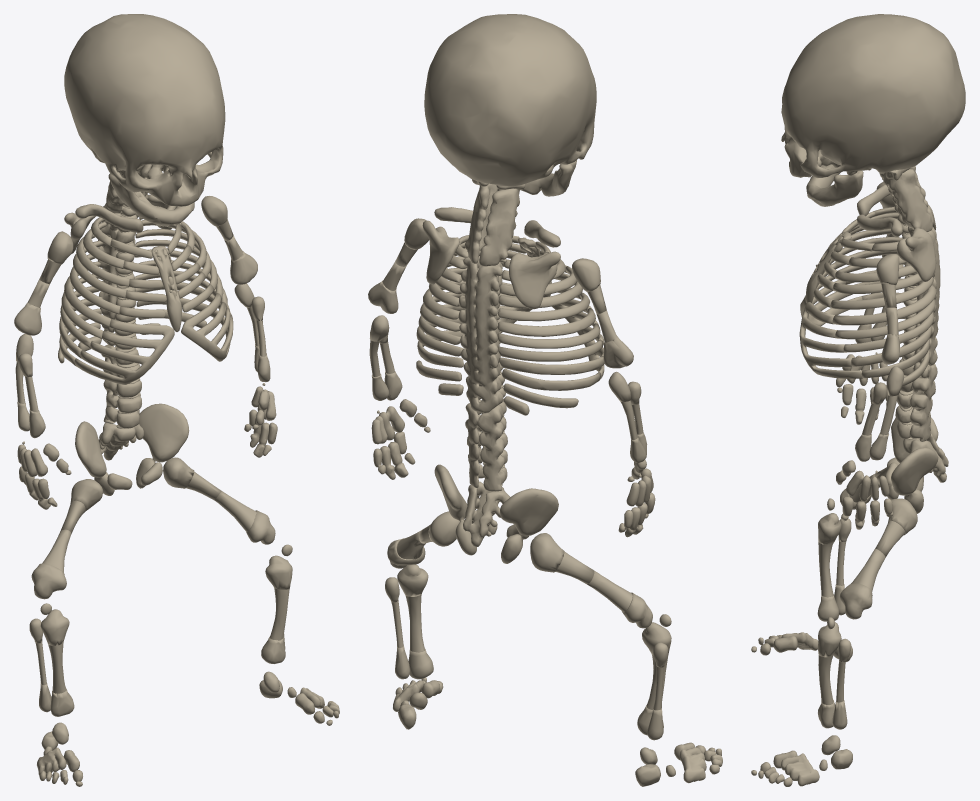
Rendered from pediatric_neonate_female.skeletal.LOD1.glb.
3 renders of one model, left to right at view 1: azimuth 30°, elevation 25°; view 2: azimuth 150°, elevation 25°; view 3: azimuth 270°, elevation 25°, orthographic. The views are drawn at different scales.
Parts seen in each view (by area): view 1: PEDIATRIC.NEONATE.FEMALE.SKELETAL.CARTILAGE_TRUNK, PEDIATRIC.NEONATE.FEMALE.SKELETAL.CARTILAGE_HEAD, PEDIATRIC.NEONATE.FEMALE.SKELETAL.CARTILAGE_LEGS, PEDIATRIC.NEONATE.FEMALE.SKELETAL.CARTILAGE_ARMS, PEDIATRIC.NEONATE.FEMALE.SKELETAL.FEMORA_LOWER_CORTICAL, PEDIATRIC.NEONATE.FEMALE.SKELETAL.TIBIAE_CORTICAL, PEDIATRIC.NEONATE.FEMALE.SKELETAL.FEMORA_UPPER_CORTICAL, PEDIATRIC.NEONATE.FEMALE.SKELETAL.HUMERI_LOWER_CORTICAL; view 2: PEDIATRIC.NEONATE.FEMALE.SKELETAL.CARTILAGE_TRUNK, PEDIATRIC.NEONATE.FEMALE.SKELETAL.CARTILAGE_HEAD, PEDIATRIC.NEONATE.FEMALE.SKELETAL.CARTILAGE_LEGS, PEDIATRIC.NEONATE.FEMALE.SKELETAL.CARTILAGE_ARMS, PEDIATRIC.NEONATE.FEMALE.SKELETAL.FEMORA_LOWER_CORTICAL, PEDIATRIC.NEONATE.FEMALE.SKELETAL.TIBIAE_CORTICAL, PEDIATRIC.NEONATE.FEMALE.SKELETAL.FEMORA_UPPER_CORTICAL, PEDIATRIC.NEONATE.FEMALE.SKELETAL.HUMERI_LOWER_CORTICAL, PEDIATRIC.NEONATE.FEMALE.SKELETAL.FIBULAE_CORTICAL, PEDIATRIC.NEONATE.FEMALE.SKELETAL.ULNAE_CORTICAL, PEDIATRIC.NEONATE.FEMALE.SKELETAL.HUMERI_UPPER_CORTICAL; view 3: PEDIATRIC.NEONATE.FEMALE.SKELETAL.CARTILAGE_HEAD, PEDIATRIC.NEONATE.FEMALE.SKELETAL.CARTILAGE_TRUNK, PEDIATRIC.NEONATE.FEMALE.SKELETAL.CARTILAGE_LEGS, PEDIATRIC.NEONATE.FEMALE.SKELETAL.CARTILAGE_ARMS, PEDIATRIC.NEONATE.FEMALE.SKELETAL.TIBIAE_CORTICAL, PEDIATRIC.NEONATE.FEMALE.SKELETAL.FEMORA_LOWER_CORTICAL, PEDIATRIC.NEONATE.FEMALE.SKELETAL.FEMORA_UPPER_CORTICAL, PEDIATRIC.NEONATE.FEMALE.SKELETAL.FIBULAE_CORTICAL, PEDIATRIC.NEONATE.FEMALE.SKELETAL.ULNAE_CORTICAL, PEDIATRIC.NEONATE.FEMALE.SKELETAL.RADII_CORTICAL.
Boxes of the visible parts, x1,y1,x2,y2 form: PEDIATRIC.NEONATE.FEMALE.SKELETAL.CARTILAGE_TRUNK: [58, 170, 233, 495]; PEDIATRIC.NEONATE.FEMALE.SKELETAL.CARTILAGE_HEAD: [64, 14, 225, 226]; PEDIATRIC.NEONATE.FEMALE.SKELETAL.CARTILAGE_LEGS: [29, 457, 339, 786]; PEDIATRIC.NEONATE.FEMALE.SKELETAL.CARTILAGE_ARMS: [14, 196, 277, 509]; PEDIATRIC.NEONATE.FEMALE.SKELETAL.FEMORA_LOWER_CORTICAL: [42, 491, 256, 572]; PEDIATRIC.NEONATE.FEMALE.SKELETAL.TIBIAE_CORTICAL: [48, 588, 289, 693]; PEDIATRIC.NEONATE.FEMALE.SKELETAL.FEMORA_UPPER_CORTICAL: [60, 472, 221, 533]; PEDIATRIC.NEONATE.FEMALE.SKELETAL.HUMERI_LOWER_CORTICAL: [27, 234, 242, 307]; PEDIATRIC.NEONATE.FEMALE.SKELETAL.CARTILAGE_TRUNK: [416, 179, 604, 563]; PEDIATRIC.NEONATE.FEMALE.SKELETAL.CARTILAGE_HEAD: [424, 14, 596, 196]; PEDIATRIC.NEONATE.FEMALE.SKELETAL.CARTILAGE_LEGS: [385, 511, 722, 786]; PEDIATRIC.NEONATE.FEMALE.SKELETAL.CARTILAGE_ARMS: [368, 218, 655, 537]; PEDIATRIC.NEONATE.FEMALE.SKELETAL.FEMORA_LOWER_CORTICAL: [397, 530, 632, 612]; PEDIATRIC.NEONATE.FEMALE.SKELETAL.TIBIAE_CORTICAL: [405, 594, 668, 709]; PEDIATRIC.NEONATE.FEMALE.SKELETAL.FEMORA_UPPER_CORTICAL: [419, 524, 594, 584]; PEDIATRIC.NEONATE.FEMALE.SKELETAL.HUMERI_LOWER_CORTICAL: [382, 260, 617, 342]; PEDIATRIC.NEONATE.FEMALE.SKELETAL.FIBULAE_CORTICAL: [391, 600, 663, 710]; PEDIATRIC.NEONATE.FEMALE.SKELETAL.ULNAE_CORTICAL: [369, 340, 637, 439]; PEDIATRIC.NEONATE.FEMALE.SKELETAL.HUMERI_UPPER_CORTICAL: [395, 242, 606, 314]; PEDIATRIC.NEONATE.FEMALE.SKELETAL.CARTILAGE_HEAD: [781, 14, 965, 206]; PEDIATRIC.NEONATE.FEMALE.SKELETAL.CARTILAGE_TRUNK: [799, 166, 948, 513]; PEDIATRIC.NEONATE.FEMALE.SKELETAL.CARTILAGE_LEGS: [751, 457, 917, 786]; PEDIATRIC.NEONATE.FEMALE.SKELETAL.CARTILAGE_ARMS: [836, 182, 903, 529]; PEDIATRIC.NEONATE.FEMALE.SKELETAL.TIBIAE_CORTICAL: [818, 542, 833, 704]; PEDIATRIC.NEONATE.FEMALE.SKELETAL.FEMORA_LOWER_CORTICAL: [849, 473, 885, 591]; PEDIATRIC.NEONATE.FEMALE.SKELETAL.FEMORA_UPPER_CORTICAL: [874, 467, 904, 557]; PEDIATRIC.NEONATE.FEMALE.SKELETAL.FIBULAE_CORTICAL: [836, 541, 846, 702]; PEDIATRIC.NEONATE.FEMALE.SKELETAL.ULNAE_CORTICAL: [880, 306, 897, 440]; PEDIATRIC.NEONATE.FEMALE.SKELETAL.RADII_CORTICAL: [862, 292, 880, 435].
Size of the model in its own units: 0.2148 by 0.4767 by 0.1333.
